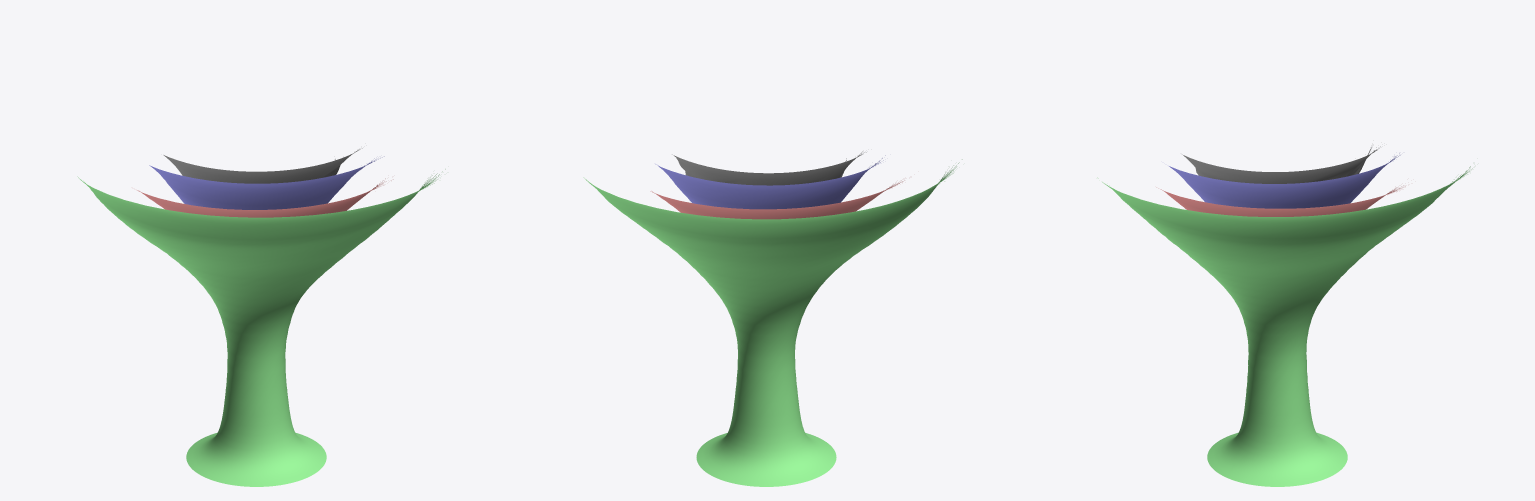
Rendered from ItemsModeDark_ItemsMode_Tornado_NoTop_BM_SM.glb.
3 renders of one model, left to right at view 1: azimuth 30°, elevation 25°; view 2: azimuth 150°, elevation 25°; view 3: azimuth 270°, elevation 25°, orthographic.
Visible parts, largest first — view 1: ItemsMode_Tornado_NoTop_BM_SM; view 2: ItemsMode_Tornado_NoTop_BM_SM; view 3: ItemsMode_Tornado_NoTop_BM_SM.
Boxes of the visible parts, x1,y1,x2,y2 form: ItemsMode_Tornado_NoTop_BM_SM: (77,148,445,486); ItemsMode_Tornado_NoTop_BM_SM: (583,151,962,486); ItemsMode_Tornado_NoTop_BM_SM: (1097,146,1472,486).
Bounding box in the file's own units: 20.17 × 15.82 × 20.39.
